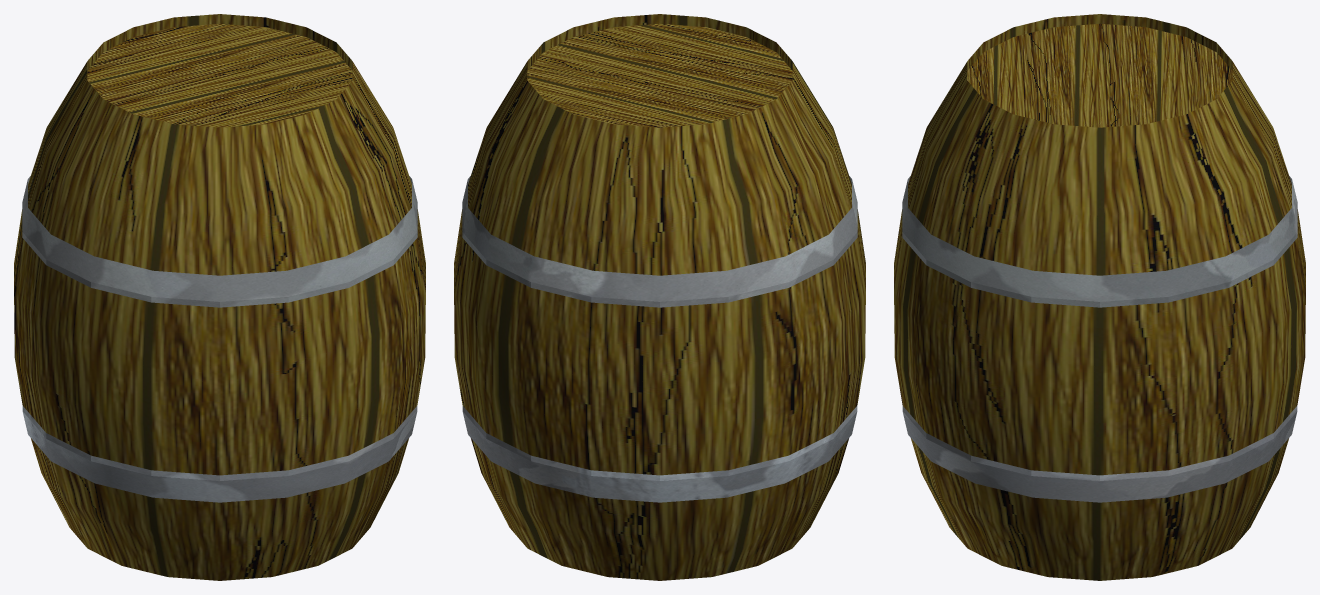
The model's file is barrel.FBX.
The picture shows the model from 3 angles, left to right: view 1: azimuth 30°, elevation 25°; view 2: azimuth 150°, elevation 25°; view 3: azimuth 270°, elevation 25°; orthographic projection.
Parts seen in each view (by area): view 1: Cylinder001; view 2: Cylinder001; view 3: Cylinder001.
Part boxes in pixels (x1,y1,x2,y2): Cylinder001: (14, 14, 425, 580); Cylinder001: (454, 14, 865, 580); Cylinder001: (894, 14, 1305, 580).
Size of the model in its own units: 105 by 123 by 103.
